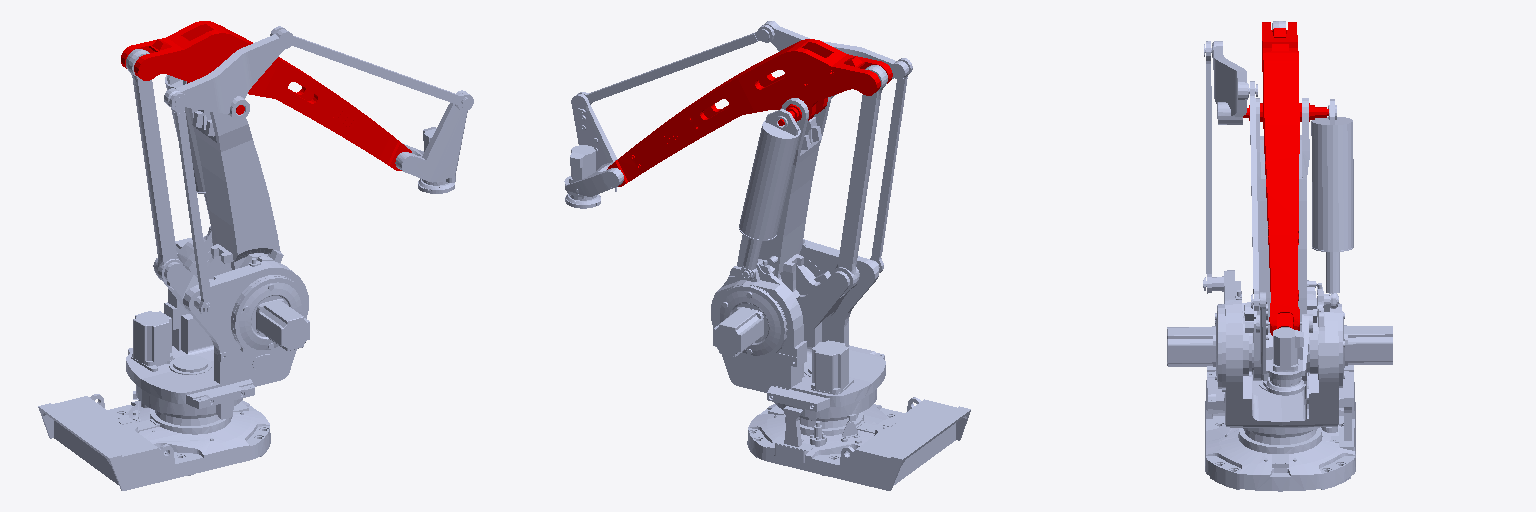
URDF robot description (test):
<?xml version="1.0" encoding="utf-8"?>
<!-- This URDF was automatically created by SolidWorks to URDF Exporter! Originally created by Stephen Brawner (brawner@gmail.com) 
     Commit Version: 1.6.0-4-g7f85cfe  Build Version: 1.6.7995.38578
     For more information, please see http://wiki.ros.org/sw_urdf_exporter -->
<robot
  name="test">
  <link
    name="base">
    <inertial>
      <origin
        xyz="-0.189258967187709 0.00401683698485133 0.0933778739605291"
        rpy="0 0 0" />
      <mass
        value="914.452079696213" />
      <inertia
        ixx="42.9246512496277"
        ixy="-0.605649329688649"
        ixz="3.33779293763624"
        iyy="78.7593849939863"
        iyz="-0.352619496721266"
        izz="116.021952346145" />
    </inertial>
    <visual>
      <origin
        xyz="0 0 0"
        rpy="0 0 0" />
      <geometry>
        <mesh
          filename="package://test/meshes/base.STL" />
      </geometry>
      <material
        name="">
        <color
          rgba="0.792156862745098 0.819607843137255 0.933333333333333 1" />
      </material>
    </visual>
    <collision>
      <origin
        xyz="0 0 0"
        rpy="0 0 0" />
      <geometry>
        <mesh
          filename="package://test/meshes/base.STL" />
      </geometry>
    </collision>
  </link>
  <link
    name="head">
    <inertial>
      <origin
        xyz="0.167293278145868 0.585343468258329 -0.00324788777630397"
        rpy="0 0 0" />
      <mass
        value="1379.53014449147" />
      <inertia
        ixx="153.921385556723"
        ixy="-31.5023748680868"
        ixz="-1.78310212073505"
        iyy="138.07912104822"
        iyz="-3.37293983714757"
        izz="125.935035255425" />
    </inertial>
    <visual>
      <origin
        xyz="0 0 0"
        rpy="0 0 0" />
      <geometry>
        <mesh
          filename="package://test/meshes/head.STL" />
      </geometry>
      <material
        name="">
        <color
          rgba="0.792156862745098 0.819607843137255 0.933333333333333 1" />
      </material>
    </visual>
    <collision>
      <origin
        xyz="0 0 0"
        rpy="0 0 0" />
      <geometry>
        <mesh
          filename="package://test/meshes/head.STL" />
      </geometry>
    </collision>
  </link>
  <joint
    name="motor1"
    type="revolute">
    <origin
      xyz="0 0 0.01"
      rpy="1.5707963267949 0 0" />
    <parent
      link="base" />
    <child
      link="head" />
    <axis
      xyz="0 -1 0" />
    <limit
      lower="0"
      upper="0"
      effort="0"
      velocity="0" />
  </joint>
  <link
    name="high_arm">
    <inertial>
      <origin
        xyz="-0.0125538226299084 0.591065911737065 0.0697985008768162"
        rpy="0 0 0" />
      <mass
        value="454.868573434854" />
      <inertia
        ixx="51.6918173053629"
        ixy="8.00425492825305"
        ixz="0.137496877784799"
        iyy="7.5581426425154"
        iyz="-2.42343580206583"
        izz="52.2427728510642" />
    </inertial>
    <visual>
      <origin
        xyz="0 0 0"
        rpy="0 0 0" />
      <geometry>
        <mesh
          filename="package://test/meshes/high_arm.STL" />
      </geometry>
      <material
        name="">
        <color
          rgba="0.792156862745098 0.819607843137255 0.933333333333333 1" />
      </material>
    </visual>
    <collision>
      <origin
        xyz="0 0 0"
        rpy="0 0 0" />
      <geometry>
        <mesh
          filename="package://test/meshes/high_arm.STL" />
      </geometry>
    </collision>
  </link>
  <joint
    name="motor2"
    type="revolute">
    <origin
      xyz="0.298483293510032 0.790000000000002 -0.0850174893503438"
      rpy="0 0 0" />
    <parent
      link="head" />
    <child
      link="high_arm" />
    <axis
      xyz="-0.0184366731924179 0 -0.999830030095914" />
    <limit
      lower="0"
      upper="0"
      effort="0"
      velocity="0" />
  </joint>
  <link
    name="low_arm">
    <inertial>
      <origin
        xyz="0.274408142043825 -0.0131956359031609 0.0411711891356588"
        rpy="0 0 0" />
      <mass
        value="360.816144658958" />
      <inertia
        ixx="24.9318502226514"
        ixy="33.9240100401782"
        ixz="1.08037492891723"
        iyy="61.5377068354725"
        iyz="-0.57742125739581"
        izz="83.1017138943954" />
    </inertial>
    <visual>
      <origin
        xyz="0 0 0"
        rpy="0 0 0" />
      <geometry>
        <mesh
          filename="package://test/meshes/low_arm.STL" />
      </geometry>
      <material
        name="">
        <color
          rgba="0.996078431372549 0 0 1" />
      </material>
    </visual>
    <collision>
      <origin
        xyz="0 0 0"
        rpy="0 0 0" />
      <geometry>
        <mesh
          filename="package://test/meshes/low_arm.STL" />
      </geometry>
    </collision>
  </link>
  <joint
    name="axis7"
    type="revolute">
    <origin
      xyz="-0.183119759358241 1.26673687699035 0.0378825580531297"
      rpy="0 0 0" />
    <parent
      link="high_arm" />
    <child
      link="low_arm" />
    <axis
      xyz="0.0184366731924141 0 0.999830030095914" />
    <limit
      lower="0"
      upper="0"
      effort="0"
      velocity="0" />
  </joint>
  <link
    name="pre_gripper">
    <inertial>
      <origin
        xyz="0.209548945188041 -0.0452690692284936 0.166160819425847"
        rpy="0 0 0" />
      <mass
        value="89.9365732719287" />
      <inertia
        ixx="1.60729958044233"
        ixy="-0.103125129388915"
        ixz="-0.110975939328618"
        iyy="1.40349047271142"
        iyz="-0.27503617666147"
        izz="1.89000578726678" />
    </inertial>
    <visual>
      <origin
        xyz="0 0 0"
        rpy="0 0 0" />
      <geometry>
        <mesh
          filename="package://test/meshes/pre_gripper.STL" />
      </geometry>
      <material
        name="">
        <color
          rgba="0.792156862745098 0.819607843137255 0.933333333333333 1" />
      </material>
    </visual>
    <collision>
      <origin
        xyz="0 0 0"
        rpy="0 0 0" />
      <geometry>
        <mesh
          filename="package://test/meshes/pre_gripper.STL" />
      </geometry>
    </collision>
  </link>
  <joint
    name="axis14"
    type="revolute">
    <origin
      xyz="1.1660316441599 -0.676833423725695 -0.121518398825989"
      rpy="0 0 0" />
    <parent
      link="low_arm" />
    <child
      link="pre_gripper" />
    <axis
      xyz="-0.018436673192416 0 -0.999830030095914" />
    <limit
      lower="0"
      upper="0"
      effort="0"
      velocity="0" />
  </joint>
  <link
    name="gripper">
    <inertial>
      <origin
        xyz="-0.000561851060417284 0.0172675047685154 2.52764940163082E-05"
        rpy="0 0 0" />
      <mass
        value="6.8402286139689" />
      <inertia
        ixx="0.0186605164945424"
        ixy="-2.77437150651237E-05"
        ixz="1.32873936961952E-06"
        iyy="0.0364132891201876"
        iyz="-2.61338960667122E-06"
        izz="0.0189277907619223" />
    </inertial>
    <visual>
      <origin
        xyz="0 0 0"
        rpy="0 0 0" />
      <geometry>
        <mesh
          filename="package://test/meshes/gripper.STL" />
      </geometry>
      <material
        name="">
        <color
          rgba="0.792156862745098 0.819607843137255 0.933333333333333 1" />
      </material>
    </visual>
    <collision>
      <origin
        xyz="0 0 0"
        rpy="0 0 0" />
      <geometry>
        <mesh
          filename="package://test/meshes/gripper.STL" />
      </geometry>
    </collision>
  </link>
  <joint
    name="axis15"
    type="revolute">
    <origin
      xyz="0.262684435437571 -0.24900000001455 0.143181309424196"
      rpy="0 0 0" />
    <parent
      link="pre_gripper" />
    <child
      link="gripper" />
    <axis
      xyz="0 -1 0" />
    <limit
      lower="0"
      upper="0"
      effort="0"
      velocity="0" />
  </joint>
  <link
    name="help2_1">
    <inertial>
      <origin
        xyz="-0.0253899829645749 0.148491590960343 -0.0678708397431328"
        rpy="0 0 0" />
      <mass
        value="69.5137975317228" />
      <inertia
        ixx="0.750879863071479"
        ixy="-0.345699009767702"
        ixz="0.649247159049298"
        iyy="2.84350554962448"
        iyz="0.102974176315268"
        izz="3.17693783707243" />
    </inertial>
    <visual>
      <origin
        xyz="0 0 0"
        rpy="0 0 0" />
      <geometry>
        <mesh
          filename="package://test/meshes/help2_1.STL" />
      </geometry>
      <material
        name="">
        <color
          rgba="0.792156862745098 0.819607843137255 0.933333333333333 1" />
      </material>
    </visual>
    <collision>
      <origin
        xyz="0 0 0"
        rpy="0 0 0" />
      <geometry>
        <mesh
          filename="package://test/meshes/help2_1.STL" />
      </geometry>
    </collision>
  </link>
  <joint
    name="axis9"
    type="revolute">
    <origin
      xyz="-0.17617 1.2667 0.41497"
      rpy="0 0 0" />
    <parent
      link="high_arm" />
    <child
      link="help2_1" />
    <axis
      xyz="-0.018437 0 -0.99983" />
    <limit
      lower="0"
      upper="0"
      effort="0"
      velocity="0" />
  </joint>
  <link
    name="help1">
    <inertial>
      <origin
        xyz="-0.0924724950024436 0.633368438495257 -0.0305503074631767"
        rpy="0 0 0" />
      <mass
        value="16.3678398415228" />
      <inertia
        ixx="2.60129431281365"
        ixy="0.376489311560619"
        ixz="0.00107327050369006"
        iyy="0.0605454591965984"
        iyz="-0.00694239039513932"
        izz="2.65947851939066" />
    </inertial>
    <visual>
      <origin
        xyz="0 0 0"
        rpy="0 0 0" />
      <geometry>
        <mesh
          filename="package://test/meshes/help1.STL" />
      </geometry>
      <material
        name="">
        <color
          rgba="0.792156862745098 0.819607843137255 0.933333333333333 1" />
      </material>
    </visual>
    <collision>
      <origin
        xyz="0 0 0"
        rpy="0 0 0" />
      <geometry>
        <mesh
          filename="package://test/meshes/help1.STL" />
      </geometry>
    </collision>
  </link>
  <joint
    name="axis4"
    type="revolute">
    <origin
      xyz="-0.109750565043775 0.958572967037156 0.406842586295773"
      rpy="0 0 0" />
    <parent
      link="head" />
    <child
      link="help1" />
    <axis
      xyz="0.0184366731924166 0 0.999830030095914" />
    <limit
      lower="0"
      upper="0"
      effort="0"
      velocity="0" />
  </joint>
  <link
    name="help2">
    <inertial>
      <origin
        xyz="0.390568841656799 -0.0200813760768193 -0.140802132779063"
        rpy="0 0 0" />
      <mass
        value="69.5137975317228" />
      <inertia
        ixx="0.750879863071479"
        ixy="-0.345699009767702"
        ixz="0.649247159049298"
        iyy="2.84350554962448"
        iyz="0.102974176315268"
        izz="3.17693783707243" />
    </inertial>
    <visual>
      <origin
        xyz="0 0 0"
        rpy="0 0 0" />
      <geometry>
        <mesh
          filename="package://test/meshes/help2.STL" />
      </geometry>
      <material
        name="">
        <color
          rgba="0.792156862745098 0.819607843137255 0.933333333333333 1" />
      </material>
    </visual>
    <collision>
      <origin
        xyz="0 0 0"
        rpy="0 0 0" />
      <geometry>
        <mesh
          filename="package://test/meshes/help2.STL" />
      </geometry>
    </collision>
  </link>
  <joint
    name="axis10"
    type="revolute">
    <origin
      xyz="-0.183891370106003 1.26673687699039 -0.00396227954600337"
      rpy="0 0 0" />
    <parent
      link="help1" />
    <child
      link="help2" />
    <axis
      xyz="0.0184366731924162 0 0.999830030095914" />
    <limit
      lower="0"
      upper="0"
      effort="0"
      velocity="0" />
  </joint>
  <link
    name="help3">
    <inertial>
      <origin
        xyz="0.584457329359535 -0.338416711874255 0.0174144623294694"
        rpy="0 0 0" />
      <mass
        value="17.186839841523" />
      <inertia
        ixx="0.778644038825486"
        ixy="1.33159681086826"
        ixz="0.0424367741457031"
        iyy="2.30459458353941"
        iyz="-0.0245543887331481"
        izz="3.07922904966382" />
    </inertial>
    <visual>
      <origin
        xyz="0 0 0"
        rpy="0 0 0" />
      <geometry>
        <mesh
          filename="package://test/meshes/help3.STL" />
      </geometry>
      <material
        name="">
        <color
          rgba="0.792156862745098 0.819607843137255 0.933333333333333 1" />
      </material>
    </visual>
    <collision>
      <origin
        xyz="0 0 0"
        rpy="0 0 0" />
      <geometry>
        <mesh
          filename="package://test/meshes/help3.STL" />
      </geometry>
    </collision>
  </link>
  <joint
    name="axis12"
    type="revolute">
    <origin
      xyz="0.756849932331833 0.120681457321779 -0.283752024162434"
      rpy="0 0 0" />
    <parent
      link="help2" />
    <child
      link="help3" />
    <axis
      xyz="0.0184366731924166 0 0.999830030095914" />
    <limit
      lower="0"
      upper="0"
      effort="0"
      velocity="0" />
  </joint>
  <link
    name="pre_gripper_1">
    <inertial>
      <origin
        xyz="-0.139770440966865 -0.334523493559927 -0.0800882136573635"
        rpy="0 0 0" />
      <mass
        value="89.9365732719347" />
      <inertia
        ixx="1.60730025942749"
        ixy="-0.103125129378158"
        ixz="-0.110975951630463"
        iyy="1.40349115191893"
        iyz="-0.275036176067961"
        izz="1.89000578749017" />
    </inertial>
    <visual>
      <origin
        xyz="0 0 0"
        rpy="0 0 0" />
      <geometry>
        <mesh
          filename="package://test/meshes/pre_gripper_1.STL" />
      </geometry>
      <material
        name="">
        <color
          rgba="0.792156862745098 0.819607843137255 0.933333333333333 1" />
      </material>
    </visual>
    <collision>
      <origin
        xyz="0 0 0"
        rpy="0 0 0" />
      <geometry>
        <mesh
          filename="package://test/meshes/pre_gripper_1.STL" />
      </geometry>
    </collision>
  </link>
  <joint
    name="axis13"
    type="fixed">
    <origin
      xyz="1.16750656728527 -0.676833423751437 -0.0415325796493197"
      rpy="0 0 0" />
    <parent
      link="help3" />
    <child
      link="pre_gripper_1" />
    <axis
      xyz="0 0 0" />
  </joint>
  <link
    name="dop1">
    <inertial>
      <origin
        xyz="-0.141561810829 0.0644155695503492 -0.0420819776959793"
        rpy="0 0 0" />
      <mass
        value="110.214713715685" />
      <inertia
        ixx="2.05616742026081"
        ixy="0.32447706272431"
        ixz="-0.835406048394423"
        iyy="4.07083041679793"
        iyz="-0.0219607886174693"
        izz="4.7069388721393" />
    </inertial>
    <visual>
      <origin
        xyz="0 0 0"
        rpy="0 0 0" />
      <geometry>
        <mesh
          filename="package://test/meshes/dop1.STL" />
      </geometry>
      <material
        name="">
        <color
          rgba="0.792156862745098 0.819607843137255 0.933333333333333 1" />
      </material>
    </visual>
    <collision>
      <origin
        xyz="0 0 0"
        rpy="0 0 0" />
      <geometry>
        <mesh
          filename="package://test/meshes/dop1.STL" />
      </geometry>
    </collision>
  </link>
  <joint
    name="motor3"
    type="revolute">
    <origin
      xyz="0.301857204704749 0.78999999999981 0.0979514061572004"
      rpy="0 0 0" />
    <parent
      link="head" />
    <child
      link="dop1" />
    <axis
      xyz="-0.0184366731924166 0 -0.999830030095914" />
    <limit
      lower="0"
      upper="0"
      effort="0"
      velocity="0" />
  </joint>
  <link
    name="dop2">
    <inertial>
      <origin
        xyz="-0.0905111329205386 0.633368796691729 0.0756815877261633"
        rpy="0 0 0" />
      <mass
        value="61.6510325279013" />
      <inertia
        ixx="11.4397260827518"
        ixy="1.64862186582773"
        ixz="0.0051394260547915"
        iyy="0.313946505328946"
        iyz="-0.0303985902094362"
        izz="11.7183581810312" />
    </inertial>
    <visual>
      <origin
        xyz="0 0 0"
        rpy="0 0 0" />
      <geometry>
        <mesh
          filename="package://test/meshes/dop2.STL" />
      </geometry>
      <material
        name="">
        <color
          rgba="0.792156862745098 0.819607843137255 0.933333333333333 1" />
      </material>
    </visual>
    <collision>
      <origin
        xyz="0 0 0"
        rpy="0 0 0" />
      <geometry>
        <mesh
          filename="package://test/meshes/dop2.STL" />
      </geometry>
    </collision>
  </link>
  <joint
    name="axis6"
    type="revolute">
    <origin
      xyz="-0.435818921145749 0.250679045857948 -0.169493757817521"
      rpy="0 0 0" />
    <parent
      link="dop1" />
    <child
      link="dop2" />
    <axis
      xyz="-0.0184366731924166 0 -0.999830030095914" />
    <limit
      lower="0"
      upper="0"
      effort="0"
      velocity="0" />
  </joint>
  <link
    name="low_arm_2">
    <inertial>
      <origin
        xyz="0.707830295718504 -0.263874681755471 0.0806870430399153"
        rpy="0 0 0" />
      <mass
        value="360.816144658961" />
      <inertia
        ixx="24.9318502226317"
        ixy="33.9240100401436"
        ixz="1.08037492891854"
        iyy="61.5377068355821"
        iyz="-0.577421257394975"
        izz="83.1017138943961" />
    </inertial>
    <visual>
      <origin
        xyz="0 0 0"
        rpy="0 0 0" />
      <geometry>
        <mesh
          filename="package://test/meshes/low_arm_2.STL" />
      </geometry>
      <material
        name="">
        <color
          rgba="0.996078431372549 0 0 1" />
      </material>
    </visual>
    <collision>
      <origin
        xyz="0 0 0"
        rpy="0 0 0" />
      <geometry>
        <mesh
          filename="package://test/meshes/low_arm_2.STL" />
      </geometry>
    </collision>
  </link>
  <joint
    name="axis11"
    type="revolute">
    <origin
      xyz="-0.184096903080621 1.26673687698512 -0.0151084335411568"
      rpy="0 0 0" />
    <parent
      link="dop2" />
    <child
      link="low_arm_2" />
    <axis
      xyz="0.018436673192416 0 0.999830030095914" />
    <limit
      lower="0"
      upper="0"
      effort="0"
      velocity="0" />
  </joint>
  <link
    name="comp1">
    <inertial>
      <origin
        xyz="-0.112533888494117 0.498351685807778 0.0322223996823637"
        rpy="0 0 0" />
      <mass
        value="37.3155610850659" />
      <inertia
        ixx="2.87155833035234"
        ixy="0.641491358501038"
        ixz="0.00314842591180018"
        iyy="0.190163175516304"
        iyz="-0.0138344444210961"
        izz="3.01755986314652" />
    </inertial>
    <visual>
      <origin
        xyz="0 0 0"
        rpy="0 0 0" />
      <geometry>
        <mesh
          filename="package://test/meshes/comp1.STL" />
      </geometry>
      <material
        name="">
        <color
          rgba="0.792156862745098 0.819607843137255 0.933333333333333 1" />
      </material>
    </visual>
    <collision>
      <origin
        xyz="0 0 0"
        rpy="0 0 0" />
      <geometry>
        <mesh
          filename="package://test/meshes/comp1.STL" />
      </geometry>
    </collision>
  </link>
  <joint
    name="axis5"
    type="revolute">
    <origin
      xyz="0.33407 1.0722 -0.30671"
      rpy="0 0 0" />
    <parent
      link="head" />
    <child
      link="comp1" />
    <axis
      xyz="-0.018437 0 -0.99983" />
    <limit
      lower="0"
      upper="0"
      effort="0"
      velocity="0" />
  </joint>
  <link
    name="comp2">
    <inertial>
      <origin
        xyz="0.0588830408489665 -0.259486157808622 -0.00118048131798743"
        rpy="0 0 0" />
      <mass
        value="23.7708191281334" />
      <inertia
        ixx="1.49257754069052"
        ixy="0.285908113777895"
        ixz="0.00117834573565005"
        iyy="0.297616231016195"
        iyz="-0.00450858475567396"
        izz="1.56585732731435" />
    </inertial>
    <visual>
      <origin
        xyz="0 0 0"
        rpy="0 0 0" />
      <geometry>
        <mesh
          filename="package://test/meshes/comp2.STL" />
      </geometry>
      <material
        name="">
        <color
          rgba="0.792156862745098 0.819607843137255 0.933333333333333 1" />
      </material>
    </visual>
    <collision>
      <origin
        xyz="0 0 0"
        rpy="0 0 0" />
      <geometry>
        <mesh
          filename="package://test/meshes/comp2.STL" />
      </geometry>
    </collision>
  </link>
  <joint
    name="axis16"
    type="prismatic">
    <origin
      xyz="-0.20476 0.90479 0.034031"
      rpy="0 0 0" />
    <parent
      link="comp1" />
    <child
      link="comp2" />
    <axis
      xyz="-0.2213 0.9752 0.0040807" />
    <limit
      lower="0"
      upper="0"
      effort="0"
      velocity="0" />
  </joint>
  <link
    name="low_arm_1">
    <inertial>
      <origin
        xyz="0.279035747016088 -0.0131956359029339 0.292128526689728"
        rpy="0 0 0" />
      <mass
        value="360.81614465896" />
      <inertia
        ixx="24.9318502226317"
        ixy="33.9240100401436"
        ixz="1.08037492891854"
        iyy="61.5377068355821"
        iyz="-0.577421257394974"
        izz="83.1017138943961" />
    </inertial>
    <visual>
      <origin
        xyz="0 0 0"
        rpy="0 0 0" />
      <geometry>
        <mesh
          filename="package://test/meshes/low_arm_1.STL" />
      </geometry>
      <material
        name="">
        <color
          rgba="0.996078431372549 0 0 1" />
      </material>
    </visual>
    <collision>
      <origin
        xyz="0 0 0"
        rpy="0 0 0" />
      <geometry>
        <mesh
          filename="package://test/meshes/low_arm_1.STL" />
      </geometry>
    </collision>
  </link>
  <joint
    name="axis8"
    type="revolute">
    <origin
      xyz="-0.018566 0.079722 -0.025412"
      rpy="0 0 0" />
    <parent
      link="comp2" />
    <child
      link="low_arm_1" />
    <axis
      xyz="-0.018437 0 -0.99983" />
    <limit
      lower="0"
      upper="0"
      effort="0"
      velocity="0" />
  </joint>
</robot>

--- Render facts (derived) ---
The picture shows the robot from 3 angles, left to right: view 1: azimuth 30°, elevation 25°; view 2: azimuth 150°, elevation 25°; view 3: azimuth 270°, elevation 25°; orthographic projection.
Robot: test — 17 links, 16 joints (14 revolute, 1 prismatic, 1 fixed); root link base; default pose: every joint at zero.
Visible links, largest first — view 1: head, base, high_arm, low_arm_1, dop2, pre_gripper, help2_1, help1, help2, help3, low_arm, dop1 (+2 smaller); view 2: head, base, low_arm, high_arm, comp2, dop2, pre_gripper, dop1, help1, low_arm_2, help3, help2 (+2 smaller); view 3: head, base, low_arm, comp2, high_arm, pre_gripper, help2, low_arm_2, help1, help3, dop1, comp1 (+1 smaller).
Link boxes in pixels (x1,y1,x2,y2): head: (126,230,309,419); base: (38,394,270,490); high_arm: (183,80,280,278); low_arm_1: (121,24,411,170); dop2: (126,49,182,282); pre_gripper: (395,93,472,185); help2_1: (164,32,293,119); help1: (169,92,216,316); help2: (164,29,288,115); help3: (270,26,473,111); low_arm: (121,21,400,165); dop1: (153,250,283,313); head: (711,239,885,421); base: (747,397,970,490); low_arm: (608,39,892,186); high_arm: (737,97,830,291); comp2: (739,109,800,240); dop2: (832,65,887,290); pre_gripper: (564,95,623,200); dop1: (796,265,859,333); help1: (870,58,912,272); low_arm_2: (608,40,880,186); help3: (578,25,774,104); help2: (758,21,908,98); head: (1167,270,1392,437); base: (1205,365,1355,491); low_arm: (1247,22,1326,328); comp2: (1311,99,1353,251); high_arm: (1256,98,1316,383); pre_gripper: (1251,292,1312,386); help2: (1204,41,1257,119); low_arm_2: (1249,26,1328,328); help1: (1206,41,1211,293); help3: (1250,81,1258,310); dop1: (1244,302,1261,380); comp1: (1326,252,1339,308).
Size in the robot's own frame: 2.41 by 1.19 by 2.43 metres.
17 mesh visuals loaded from 17 distinct referenced files (17 binary STL).
